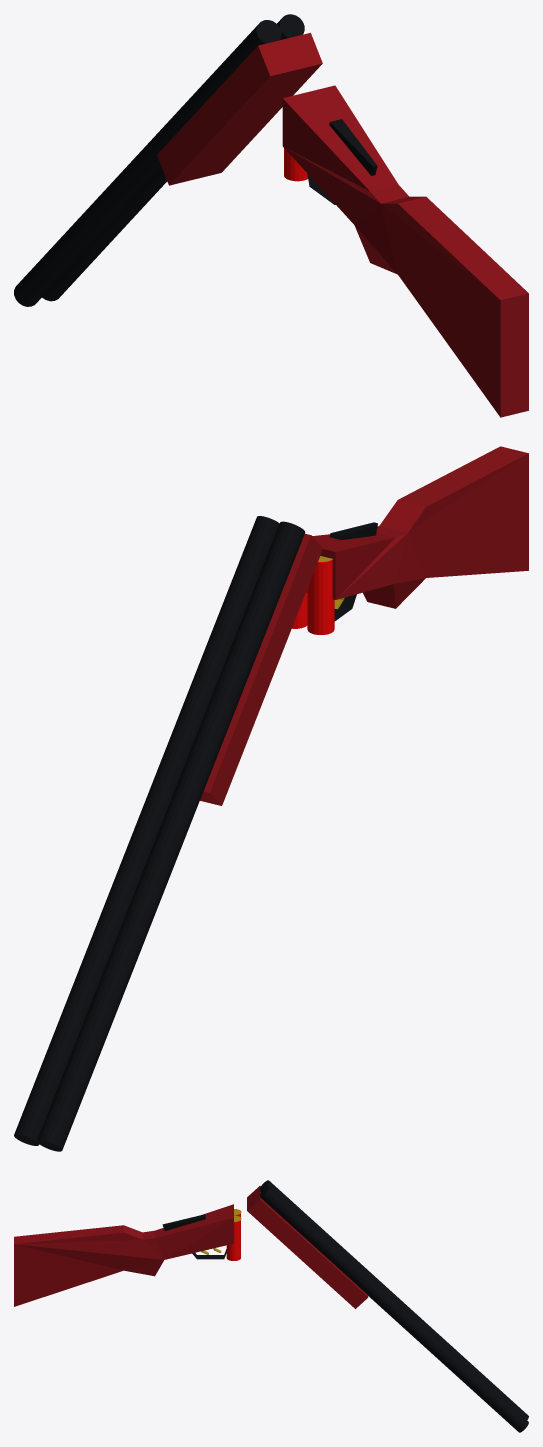
Rendered from double-barreled-shotgun0023.obj.
3 views of the same model, one above another, from view 1: azimuth 30°, elevation 25°; view 2: azimuth 150°, elevation 25°; view 3: azimuth 270°, elevation 25° (orthographic). The views are drawn at different scales.
Visible parts, largest first — view 1: rearStock, foreGrip, leftBarrel, rightBarrel, topLatch, shellPlastic; view 2: rearStock, leftBarrel, rightBarrel, foreGrip, shellPlastic; view 3: rearStock, rightBarrel, foreGrip, leftBarrel, shellPlastic2.
Part boxes in pixels (x1=…): rearStock: x1=282, y1=85, x2=528, y2=417; foreGrip: x1=157, y1=32, x2=322, y2=185; leftBarrel: x1=14, y1=20, x2=281, y2=306; rightBarrel: x1=42, y1=14, x2=304, y2=301; topLatch: x1=329, y1=119, x2=377, y2=175; shellPlastic: x1=284, y1=148, x2=307, y2=181; rearStock: x1=306, y1=446, x2=528, y2=608; leftBarrel: x1=37, y1=521, x2=305, y2=1151; rightBarrel: x1=14, y1=516, x2=279, y2=1145; foreGrip: x1=200, y1=533, x2=323, y2=805; shellPlastic: x1=307, y1=560, x2=334, y2=634; rearStock: x1=14, y1=1204, x2=233, y2=1306; rightBarrel: x1=260, y1=1186, x2=528, y2=1432; foreGrip: x1=247, y1=1186, x2=368, y2=1308; leftBarrel: x1=260, y1=1180, x2=528, y2=1419; shellPlastic2: x1=226, y1=1220, x2=240, y2=1260.
Size of the model in its own units: 0.2057 by 1.7 by 3.24.
